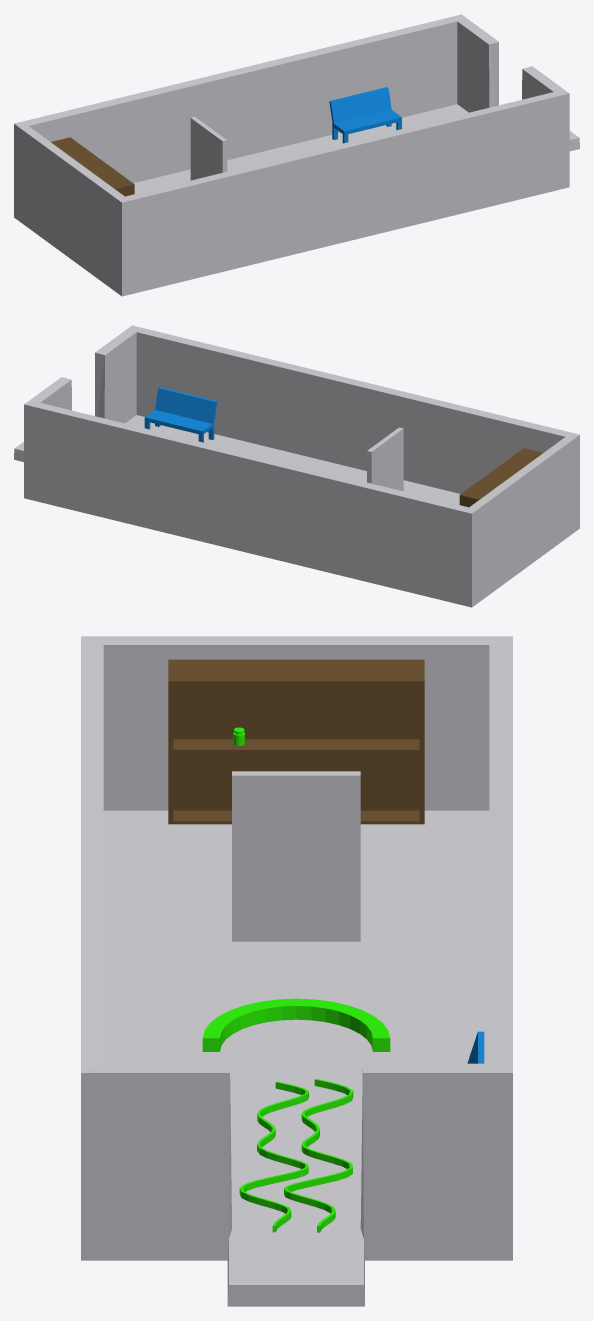
Rendered from Map2_triangulated.dae.
3 renders of one model, top to bottom at view 1: azimuth 30°, elevation 25°; view 2: azimuth 150°, elevation 25°; view 3: azimuth 270°, elevation 25°, orthographic. The views are drawn at different scales.
Parts seen in each view (by area): view 1: Room, Cube.001, Room.001; view 2: Room, Cube, Room.001; view 3: Room, Room.001, LineTrack, Circle.
Boxes of the visible parts, bbox=[...] form: Room: bbox=[14, 14, 579, 296]; Cube.001: bbox=[329, 87, 401, 143]; Room.001: bbox=[51, 137, 134, 196]; Room: bbox=[14, 325, 579, 607]; Cube: bbox=[144, 387, 217, 442]; Room.001: bbox=[459, 448, 542, 507]; Room: bbox=[81, 636, 512, 1306]; Room.001: bbox=[168, 659, 424, 824]; LineTrack: bbox=[239, 1079, 353, 1232]; Circle: bbox=[202, 998, 390, 1051].
Bounding box in the file's own units: 31.35 × 11.85 × 5.68.
